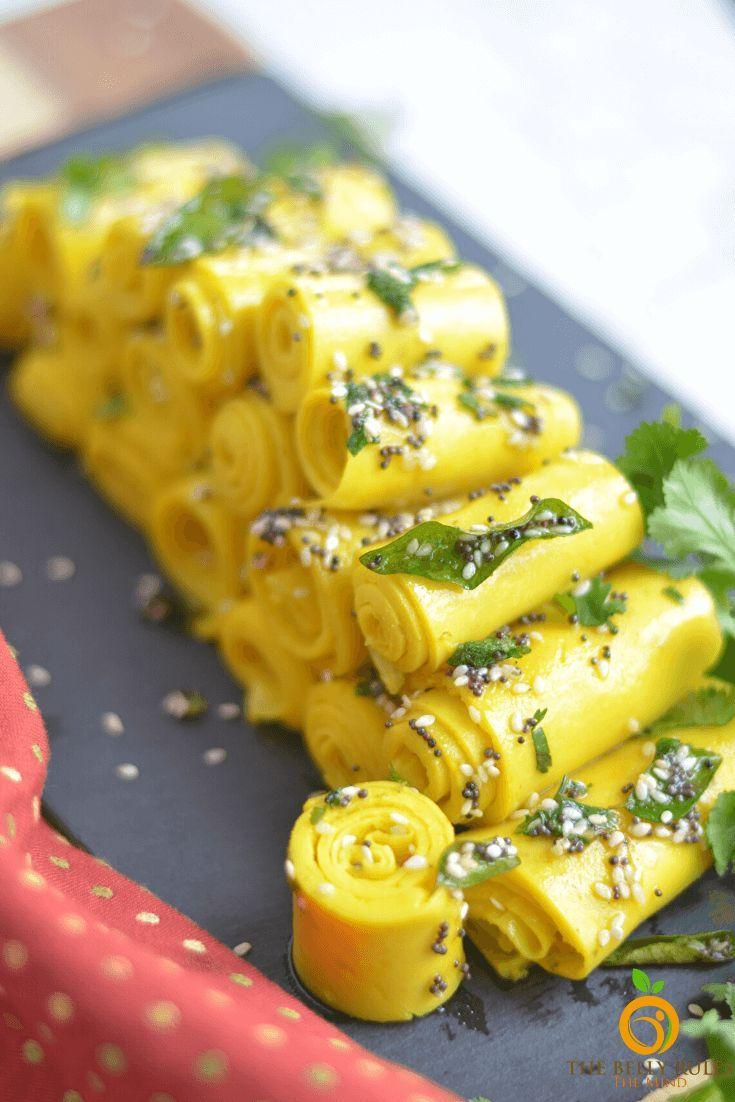khandvi: (3, 135, 725, 1002)
